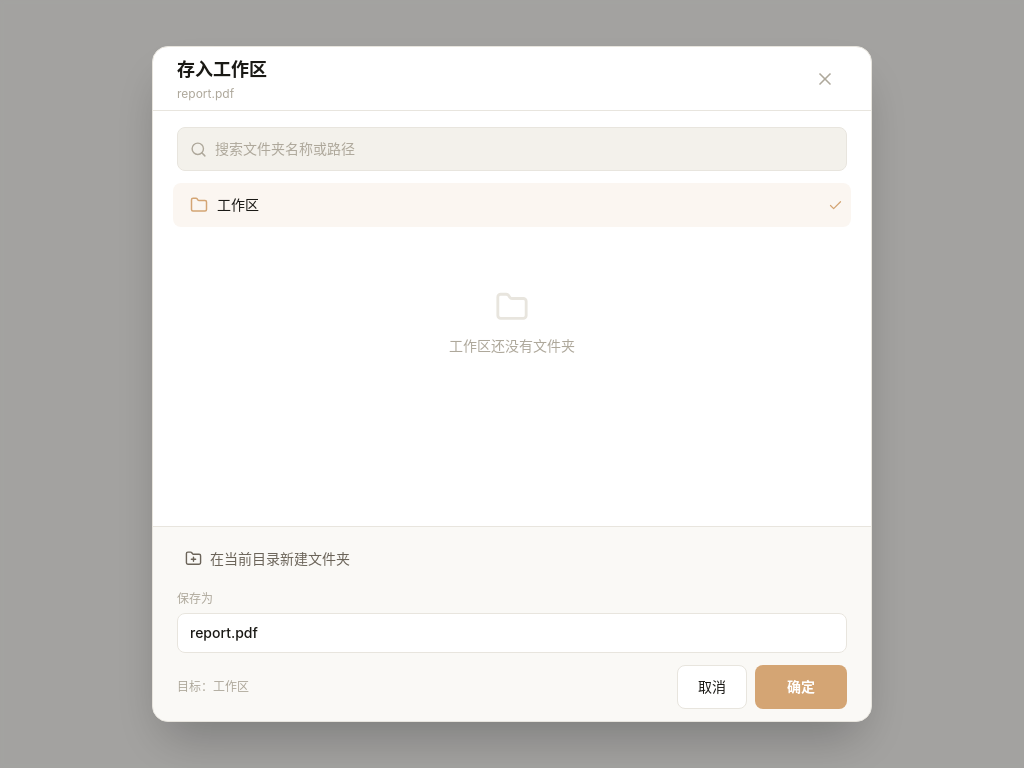
Scenario: WorkspaceDestinationPicker › 缺少 source revision 时阻止导入并给出明确提示
Click the button "确定" at coordinates (801, 687), box [755,665,847,709]
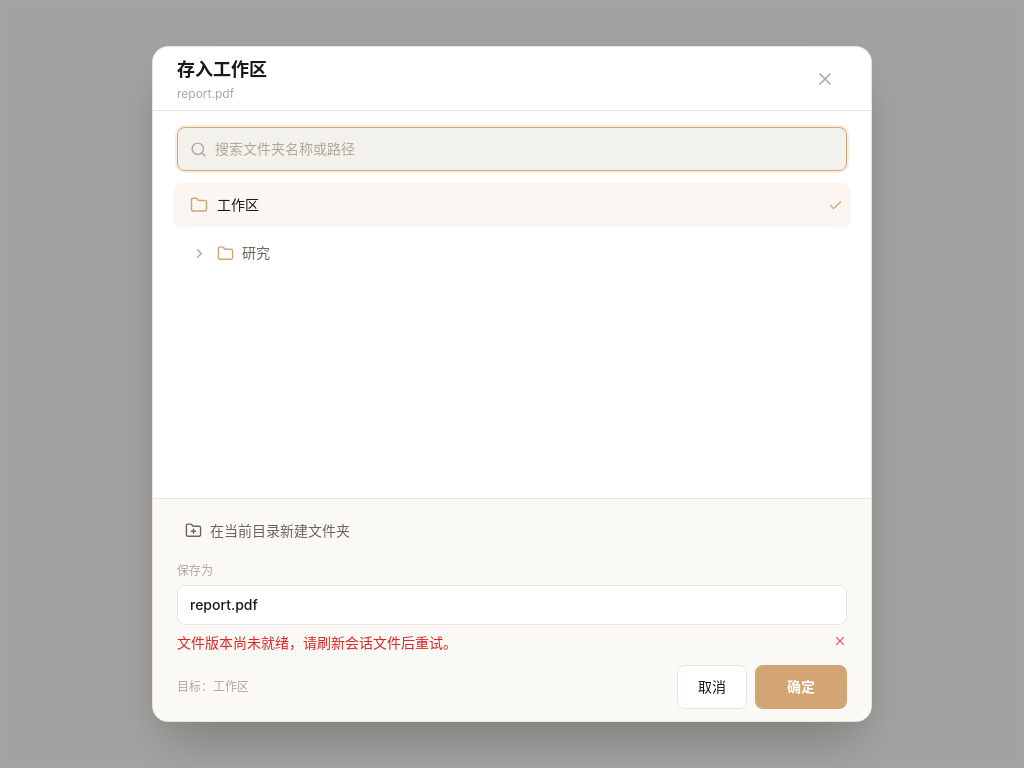
Expected: the message shows "文件版本尚未就绪", [177,634,457,651]
